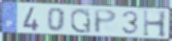0: (46, 7, 67, 33)
3: (121, 11, 140, 36)
4: (21, 6, 41, 33)
H: (142, 8, 168, 39)
P: (93, 8, 119, 35)
Q: (69, 7, 93, 35)
